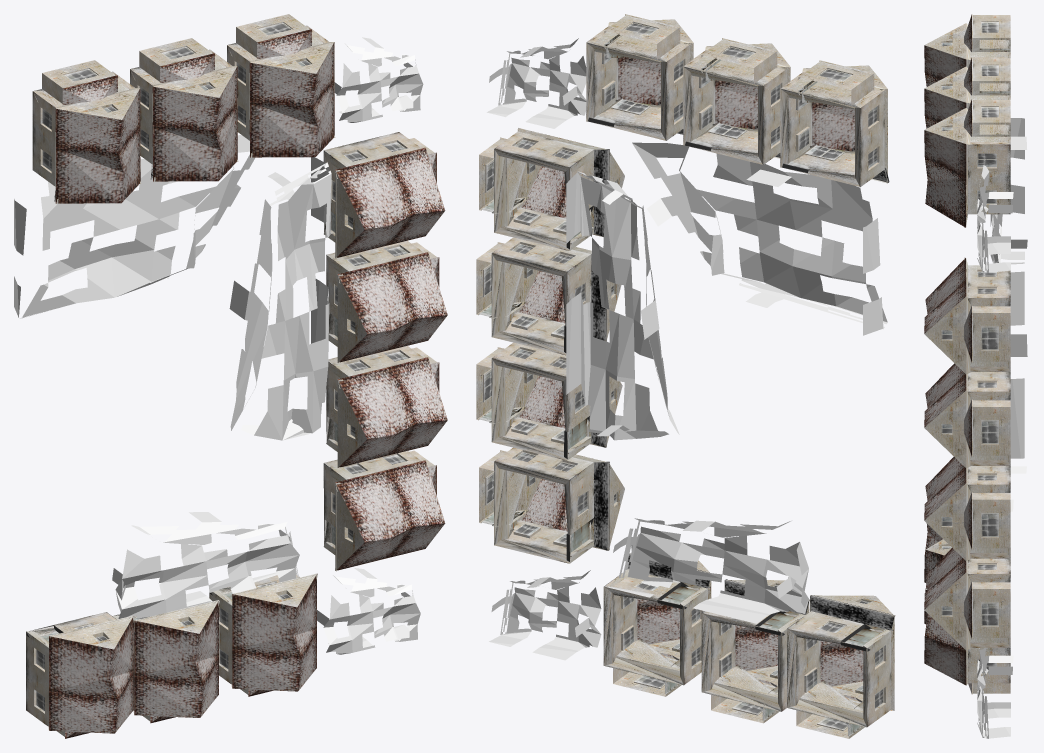
Rendered from HotelAreaSnowed_wtf.obj.
3 views of the same model, side by side, from view 1: azimuth 30°, elevation 25°; view 2: azimuth 150°, elevation 25°; view 3: azimuth 270°, elevation 25° (orthographic). The views are drawn at different scales.
Parts seen in each view (by area): view 1: group5, group38, group35, group29, group30, group6, group18, group24, group23, group17, group12, group4 (+3 smaller); view 2: group38, group5, group6, group17, group35, group4, group30, group29, group18, group23, group12, group24 (+7 smaller); view 3: group29, group24, group23, group18, group17, group35, group30, group12, group5, group2, group3, group38 (+2 smaller).
Boxes of the visible parts, x1,y1,x2,y2 form: group5: [229, 157, 331, 440]; group38: [14, 135, 254, 318]; group35: [32, 60, 140, 203]; group29: [227, 14, 335, 157]; group30: [130, 38, 238, 181]; group6: [26, 612, 134, 738]; group18: [326, 346, 447, 467]; group24: [323, 132, 445, 258]; group23: [326, 240, 447, 362]; group17: [323, 450, 445, 571]; group12: [209, 573, 317, 696]; group4: [112, 512, 299, 618]; group38: [632, 142, 887, 335]; group5: [566, 171, 679, 440]; group6: [787, 595, 895, 738]; group17: [479, 447, 624, 563]; group35: [780, 60, 888, 186]; group4: [607, 518, 808, 623]; group30: [683, 38, 790, 164]; group29: [586, 14, 693, 140]; group18: [476, 342, 622, 460]; group23: [476, 237, 621, 355]; group12: [603, 553, 711, 696]; group24: [479, 128, 624, 250]; group29: [924, 99, 1010, 227]; group24: [924, 257, 1010, 374]; group23: [924, 363, 1010, 468]; group18: [924, 457, 1010, 561]; group17: [924, 548, 1010, 650]; group35: [924, 14, 1010, 86]; group30: [924, 57, 1010, 128]; group12: [924, 589, 1010, 694]; group5: [996, 261, 1027, 473]; group2: [977, 165, 1013, 272]; group3: [977, 648, 1013, 738]; group38: [990, 118, 1027, 263].
Size of the model in its own units: 422 by 655 by 108.
